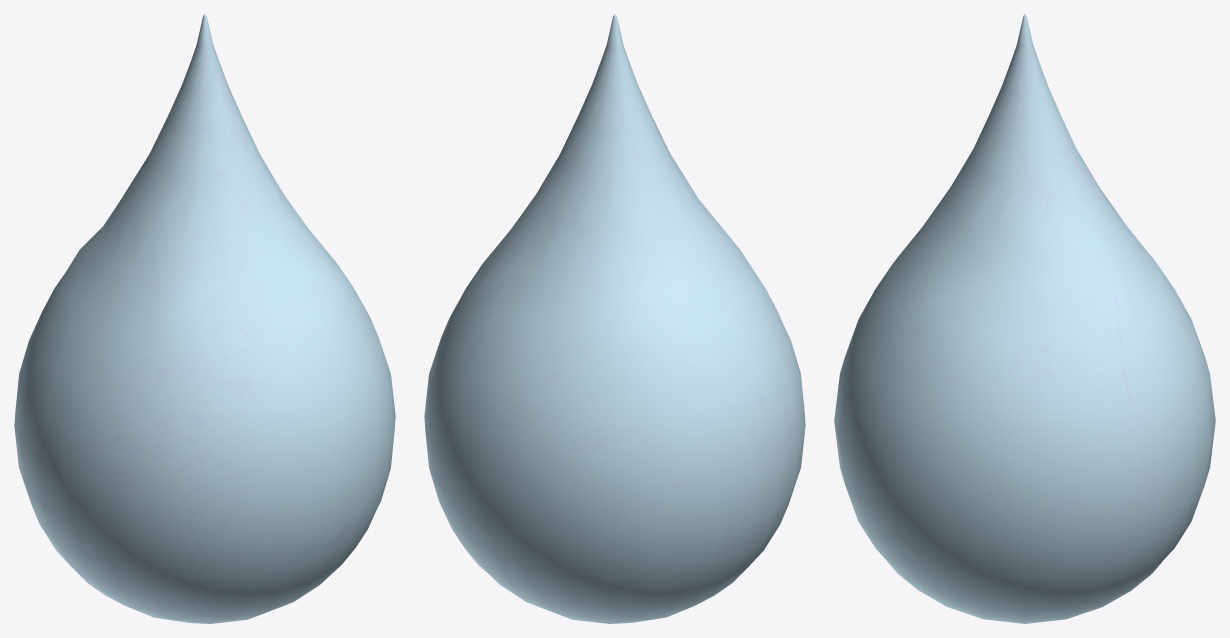
The model's file is Drops.obj.
3 views of the same model, side by side, from view 1: azimuth 30°, elevation 25°; view 2: azimuth 150°, elevation 25°; view 3: azimuth 270°, elevation 25° (orthographic).
Parts seen in each view (by area): view 1: Drops; view 2: Drops; view 3: Drops.
Boxes of the visible parts, <box> form: Drops: <box>14,14,395,623</box>; Drops: <box>424,14,805,623</box>; Drops: <box>834,14,1215,623</box>.
Size of the model in its own units: 0.9732 by 1.67 by 0.9732.
